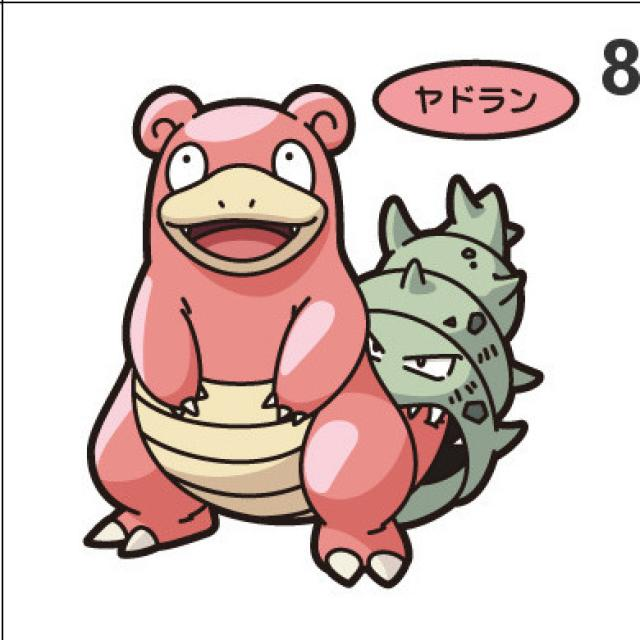Slowbro: (83, 83, 510, 573)
